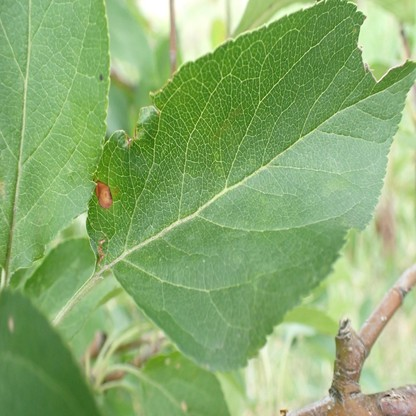frogeye_leaf_spot: (94, 181, 114, 208), (96, 238, 103, 266)
